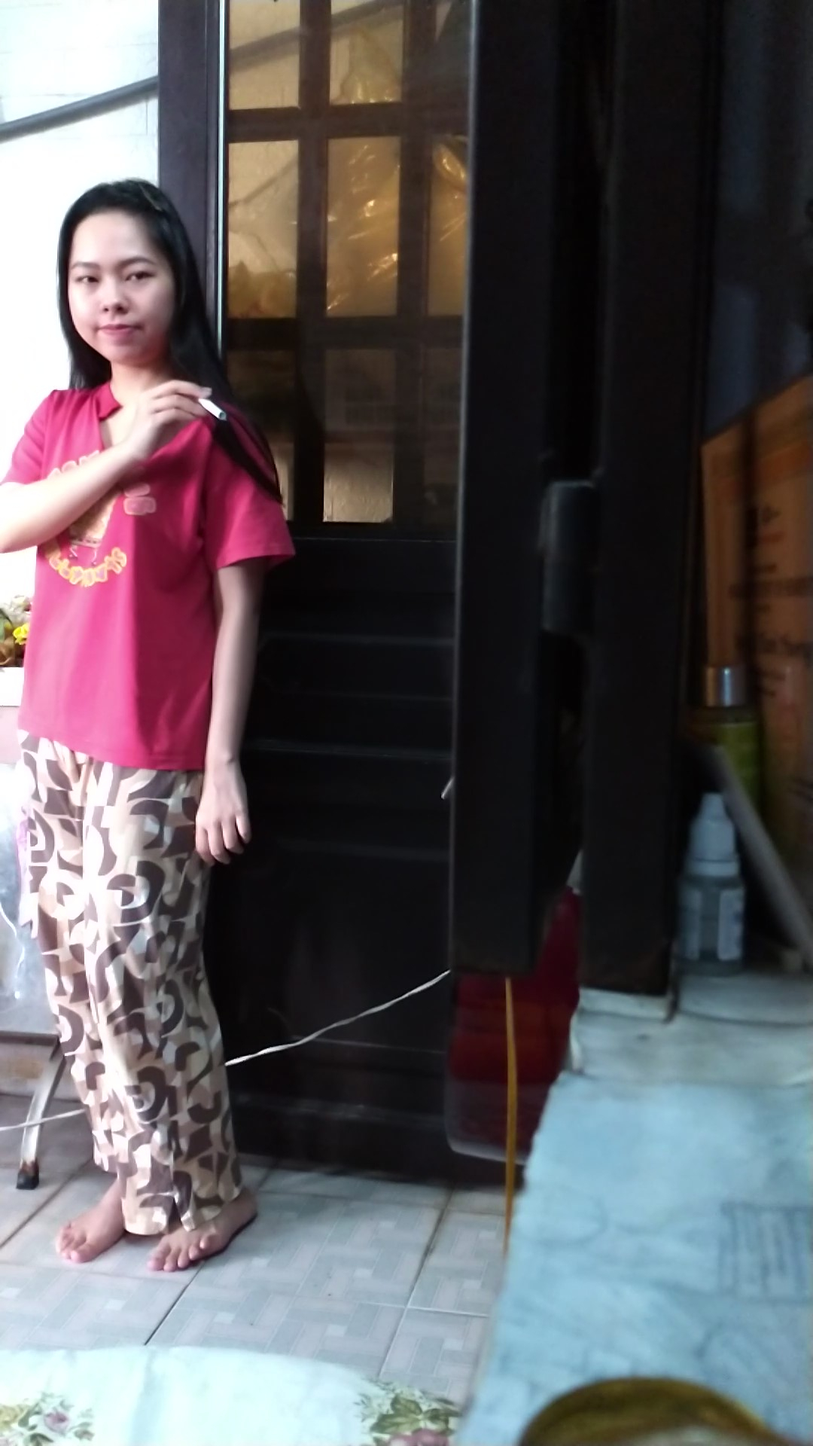cigarette: (193, 394, 229, 425)
person: (0, 154, 289, 1320)
